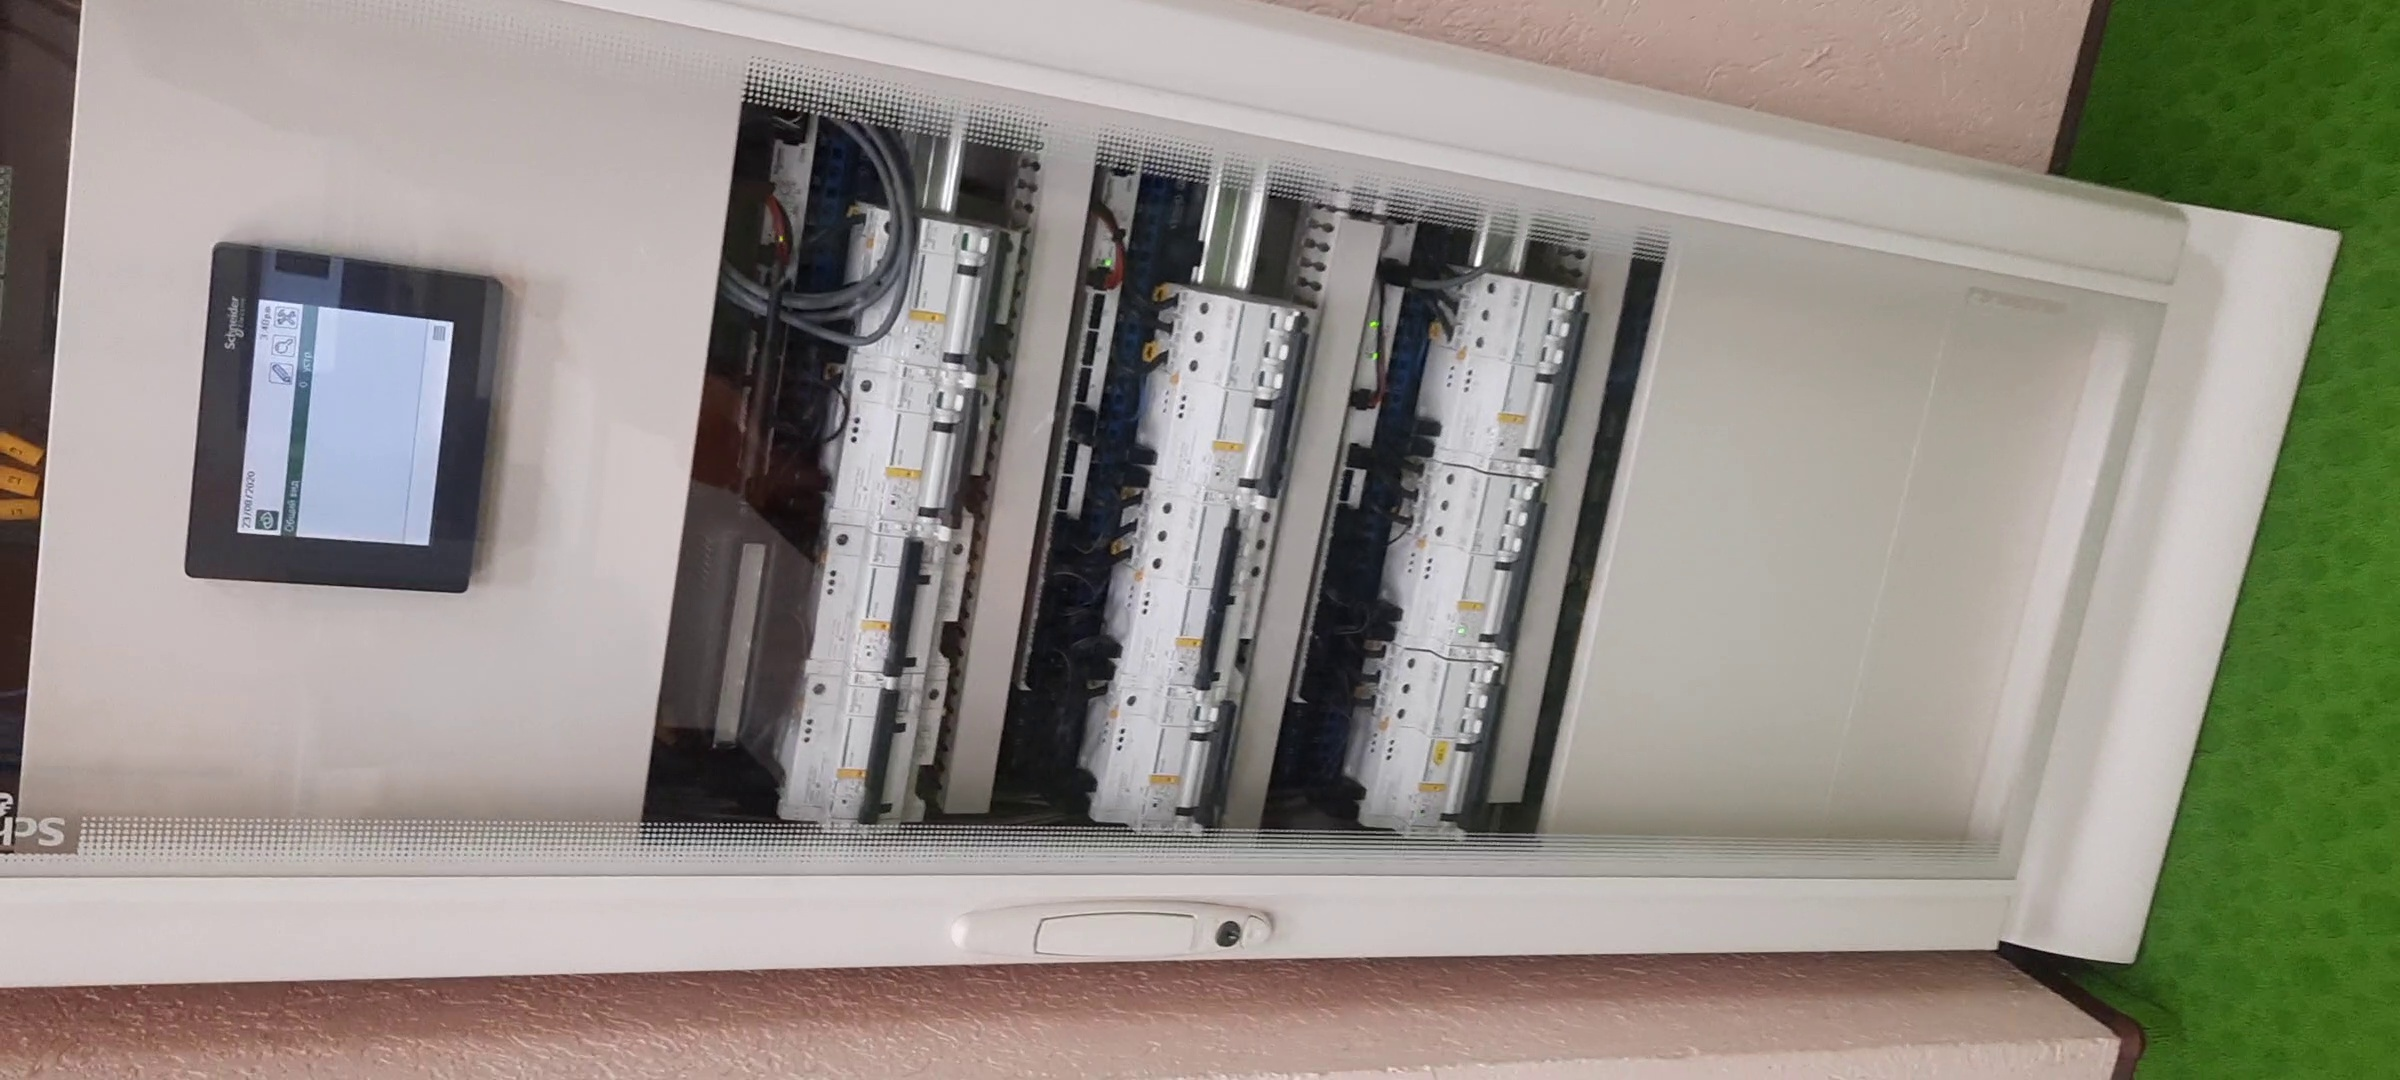smart_stand: (2, 57, 2248, 953)
